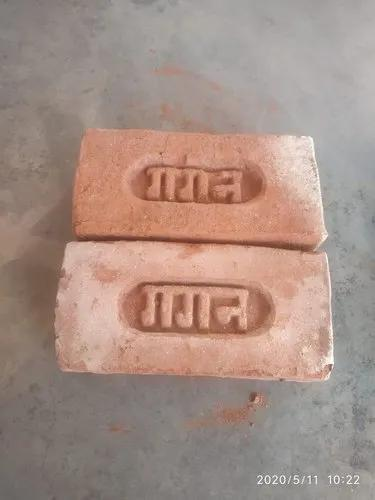brick: (54, 243, 330, 375), (72, 132, 320, 240)
